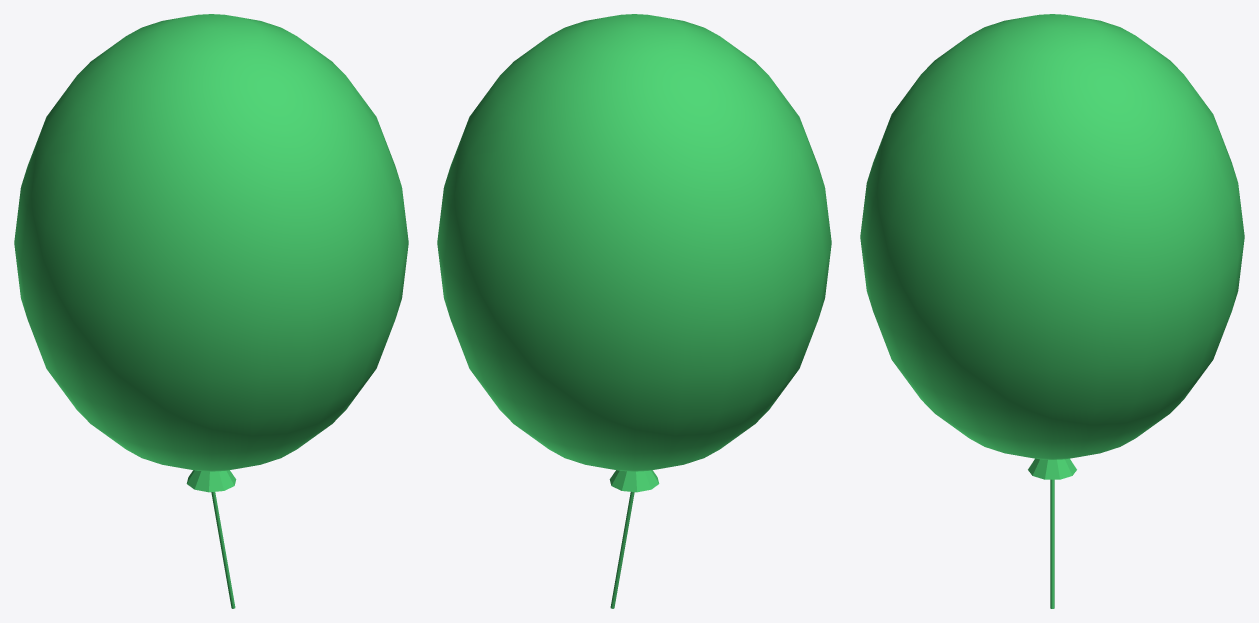
Rendered from balloon_green.glb.
3 views of the same model, side by side, from view 1: azimuth 30°, elevation 25°; view 2: azimuth 150°, elevation 25°; view 3: azimuth 270°, elevation 25° (orthographic). The views are drawn at different scales.
Visible parts, largest first — view 1: SM_LatexBalloon; view 2: SM_LatexBalloon; view 3: SM_LatexBalloon.
Part boxes in pixels (x1=…): SM_LatexBalloon: x1=14, y1=14, x2=408, y2=608; SM_LatexBalloon: x1=437, y1=14, x2=831, y2=608; SM_LatexBalloon: x1=860, y1=14, x2=1244, y2=608.
Bounding box in the file's own units: 0.28 × 0.4583 × 0.28.
